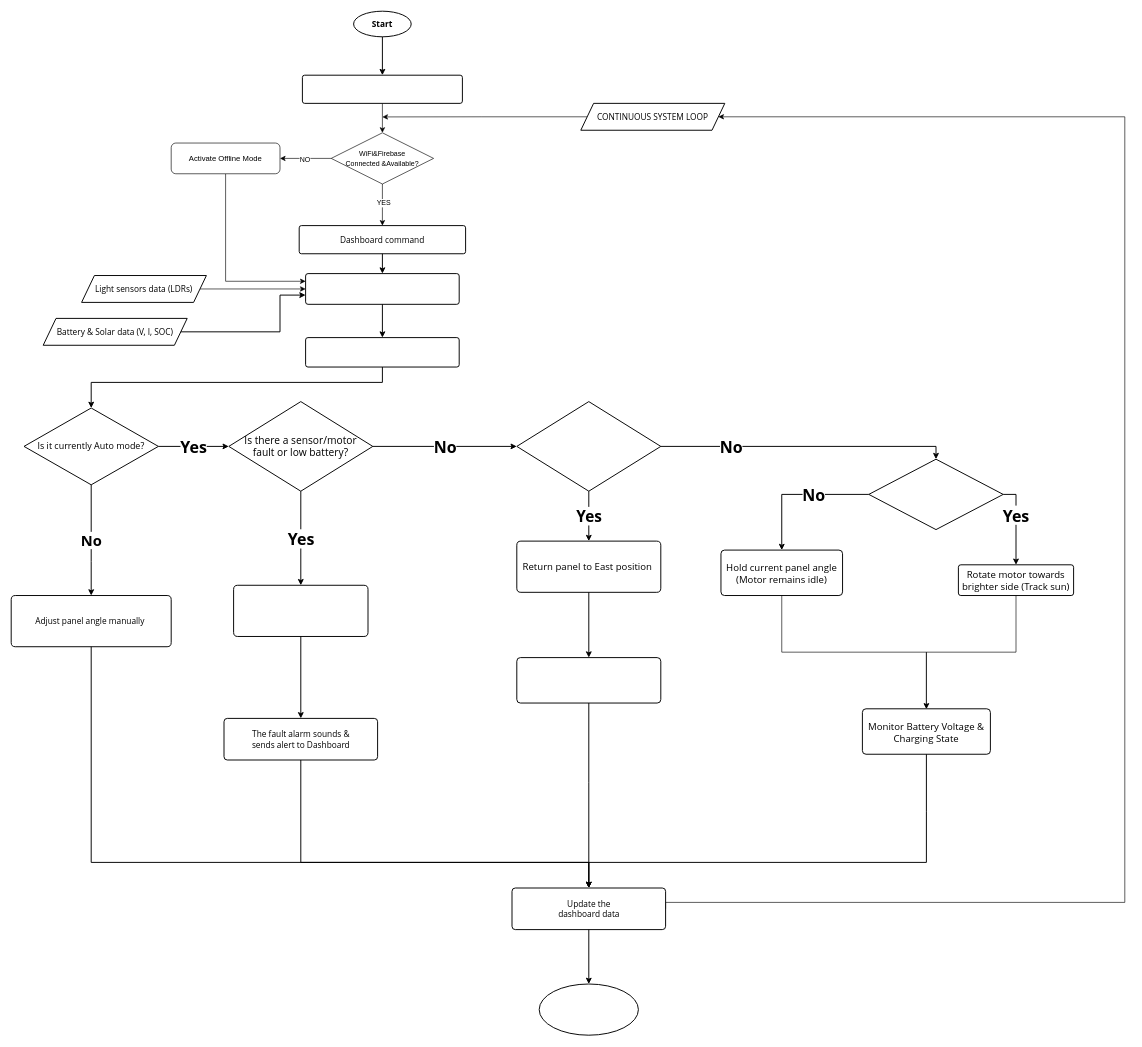
Image size: 1142x1047. Some labels were removed from this diagram. The centre of each missing label's shape, as x and y in pixels:
"End" goes at (x=588, y=1009).
"Enter low-power sleep standby mode" goes at (x=588, y=680).
"Initialize the system" goes at (x=382, y=89).
"Is ambient light <Night threshold (Dark)?" goes at (x=588, y=446).
"Is light difference >= Deadband threshold?" goes at (x=935, y=494).
"Read and process sensor data" goes at (x=382, y=289).
"Send status via Dashboard (Realtime Telemetry)" goes at (x=382, y=352).
"Stop motor completely & switch to safe mode" goes at (x=300, y=611).
